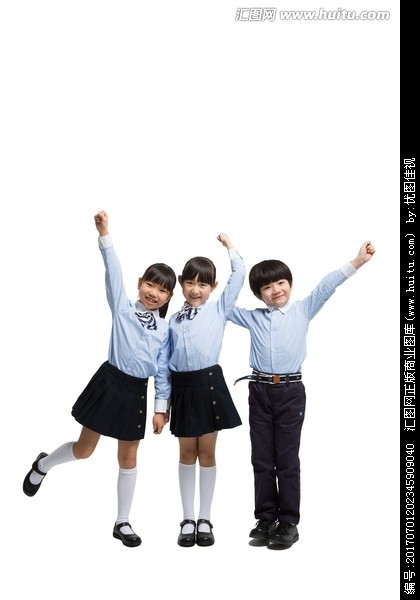handsup: (17, 201, 177, 562), (215, 238, 379, 553), (152, 229, 246, 556)
